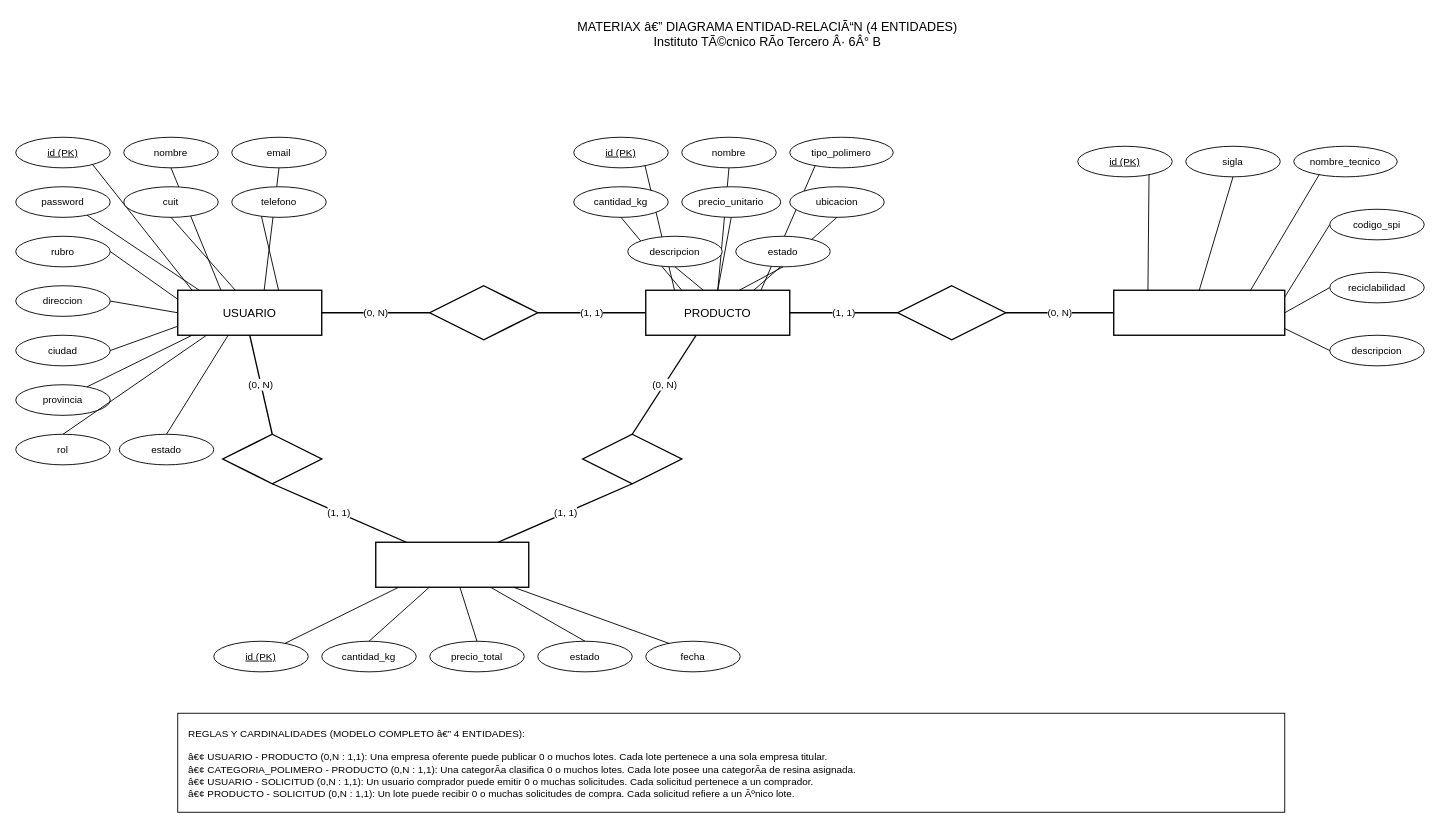
This 1440x828 diagram has some shape labels left out. Here are the shapes that lost their labels. From the top down, the centre of each, then its label:
At (x=483, y=312): "PUBLICA".
At (x=951, y=312): "CLASIFICA".
At (x=1199, y=312): "CATEGORIA_POLIMERO".
At (x=272, y=458): "SOLICITA".
At (x=632, y=458): "GENERA".
At (x=452, y=564): "SOLICITUD".
